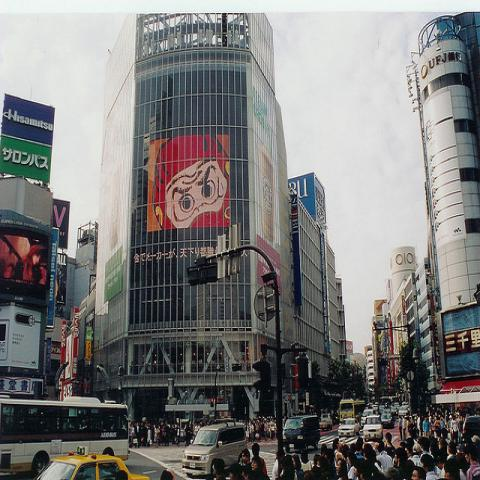bus: (1, 393, 130, 475), (339, 400, 365, 422)
car: (182, 417, 246, 478), (42, 454, 133, 475), (460, 415, 480, 444), (364, 415, 385, 442), (340, 419, 360, 434), (380, 412, 396, 428), (361, 408, 375, 426), (396, 403, 407, 416)
truck: (282, 415, 324, 455)
